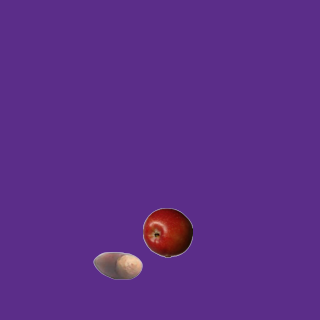Apple Braeburn: (142, 207, 192, 257)
Hazelnut: (92, 240, 142, 290)
